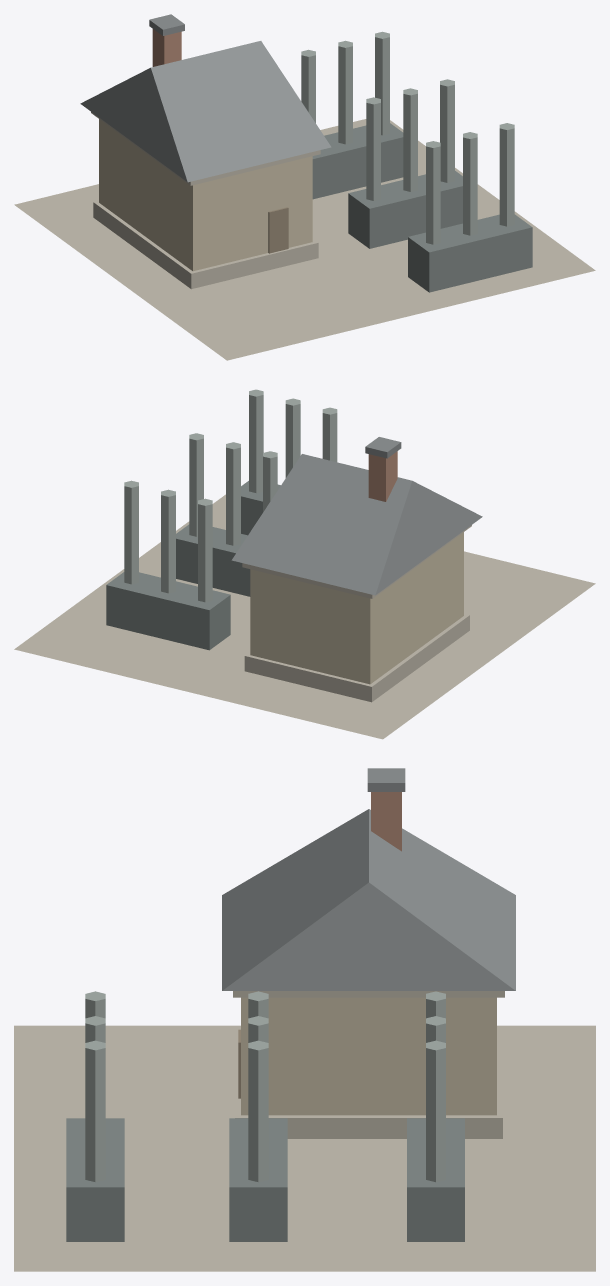
The picture shows the model from 3 angles, top to bottom: view 1: azimuth 30°, elevation 25°; view 2: azimuth 150°, elevation 25°; view 3: azimuth 270°, elevation 25°; orthographic projection. The views are drawn at different scales.
Parts seen in each view (by area): view 1: Near; view 2: Near; view 3: Near.
Boxes of the visible parts, x1,y1,x2,y2 form: Near: (14, 14, 595, 360); Near: (14, 389, 595, 739); Near: (14, 768, 595, 1271).
Bounding box in the file's own units: 2 × 1.14 × 2.
